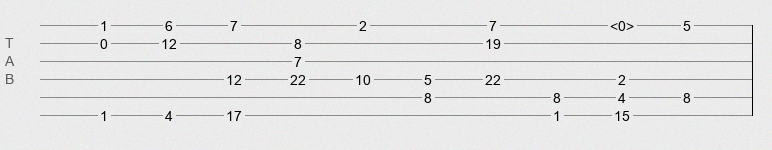0: (100, 36, 108, 46)
1: (100, 18, 108, 28), (100, 108, 108, 118), (553, 108, 561, 118)
10: (355, 72, 371, 82)
12: (161, 36, 177, 46), (226, 72, 242, 82)
15: (614, 108, 630, 118)
17: (226, 108, 242, 118)
19: (485, 36, 501, 46)
2: (359, 18, 367, 28), (618, 72, 626, 82)
22: (290, 72, 306, 82), (485, 72, 501, 82)
4: (165, 108, 173, 118), (618, 90, 626, 100)
5: (424, 72, 432, 82), (683, 18, 691, 28)
6: (165, 18, 173, 28)
7: (230, 18, 238, 28), (294, 54, 302, 64), (489, 18, 497, 28)
8: (294, 36, 302, 46), (424, 90, 432, 100), (553, 90, 561, 100), (683, 90, 691, 100)
harmonic: (610, 18, 634, 28)
